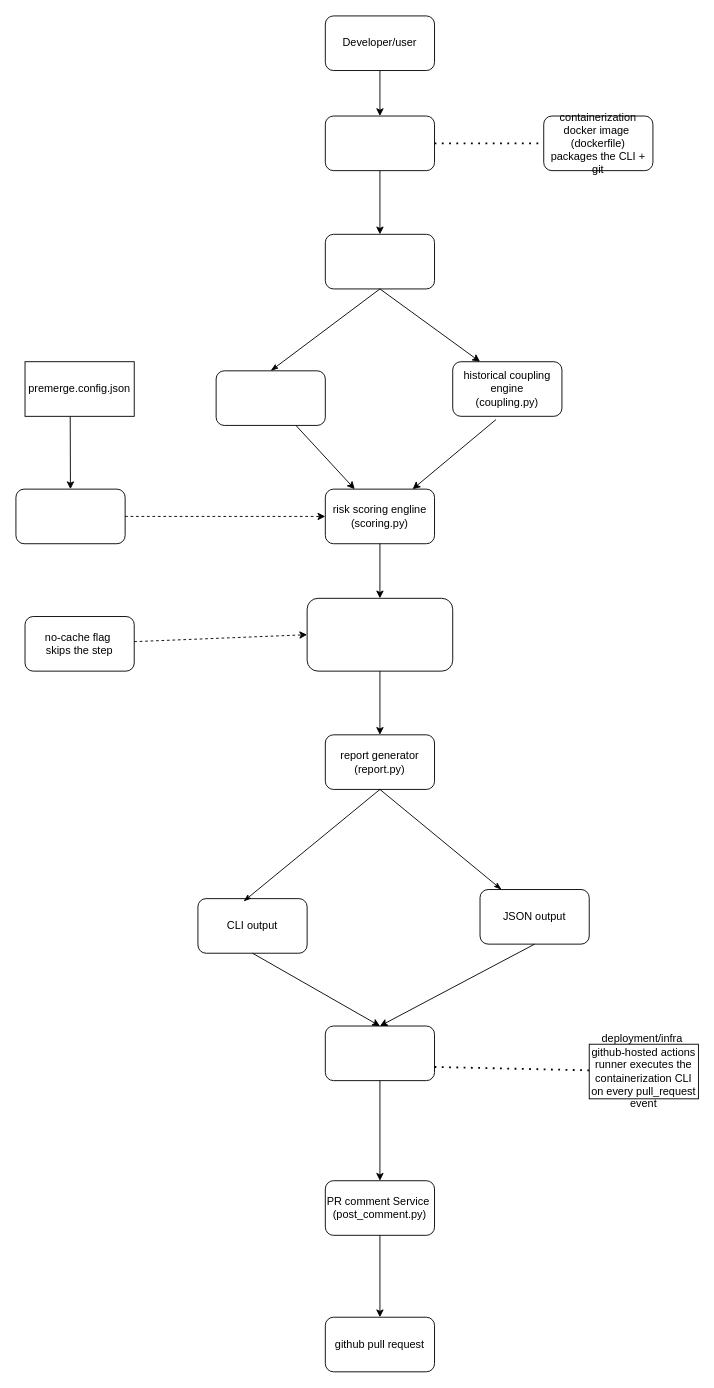
This 714x1388 diagram has some shape labels left out. Each missing label, with the centre of its shape:
config.py (configuration loader): the point at 70,516
git utilities (git_utils.py): the point at 379,261
Github Action (action.yml): the point at 379,1053
overlap analyser (overlap.py): the point at 270,397
premerge CLI (clipy): the point at 379,143
SQLite Cache (.premerge_chache.sqlite): the point at 379,634
